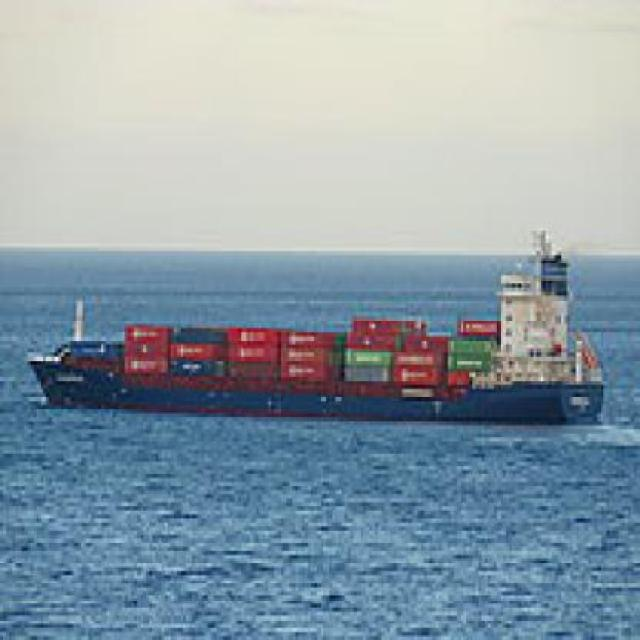container: (19, 236, 611, 439)
